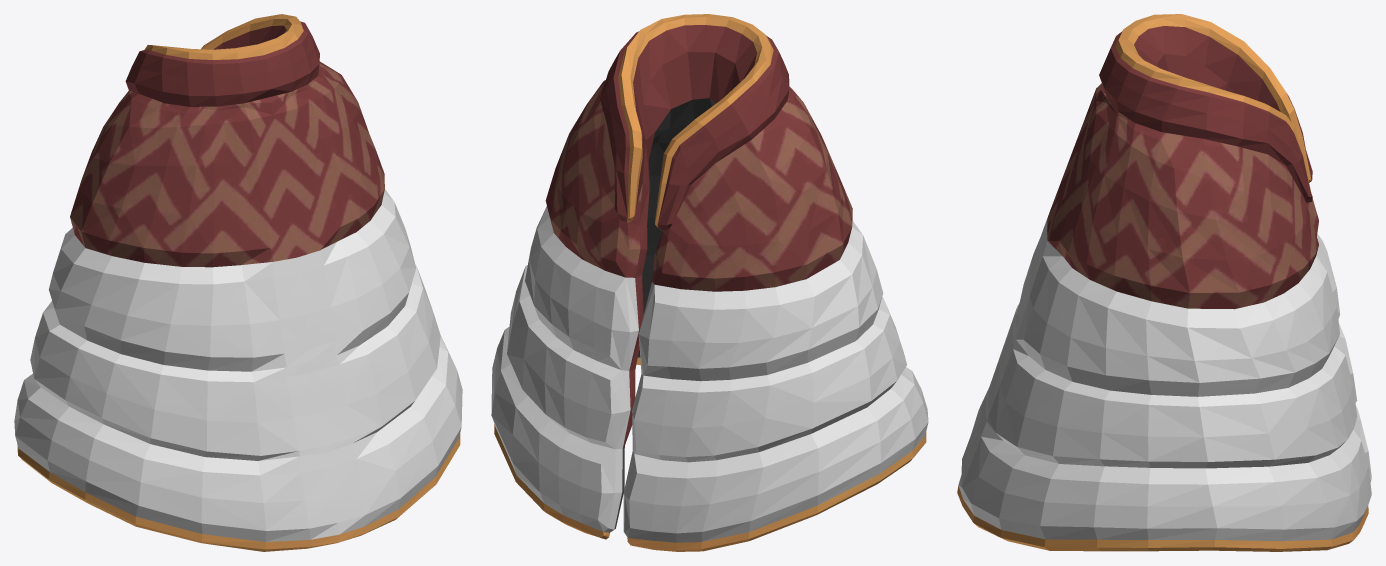
The model's file is CharSkyKid_Wing_WinterPuffer.glb.
3 renders of one model, left to right at view 1: azimuth 30°, elevation 25°; view 2: azimuth 150°, elevation 25°; view 3: azimuth 270°, elevation 25°, orthographic. The views are drawn at different scales.
Visible parts, largest first — view 1: CharSkyKid_Wing_WinterPuffer; view 2: CharSkyKid_Wing_WinterPuffer; view 3: CharSkyKid_Wing_WinterPuffer.
Boxes of the visible parts, <box> form: CharSkyKid_Wing_WinterPuffer: <box>14,14,462,551</box>; CharSkyKid_Wing_WinterPuffer: <box>491,14,928,551</box>; CharSkyKid_Wing_WinterPuffer: <box>957,14,1371,551</box>.
Bounding box in the file's own units: 6.33 × 6.81 × 5.45.
1 material, 1 textured.
